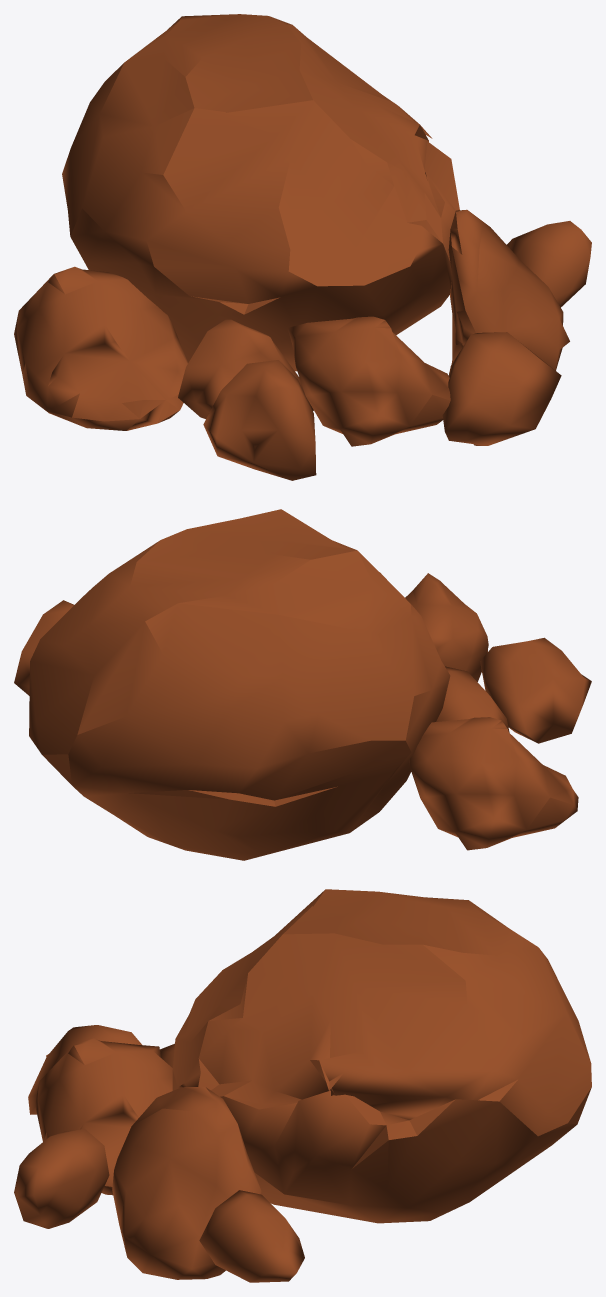
The model's file is ore-iron.glb.
3 views of the same model, one above another, from view 1: azimuth 30°, elevation 25°; view 2: azimuth 150°, elevation 25°; view 3: azimuth 270°, elevation 25° (orthographic). The views are drawn at different scales.
Visible parts, largest first — view 1: ore-iron-chunk; view 2: ore-iron-chunk; view 3: ore-iron-chunk.
Part boxes in pixels (x1=…): ore-iron-chunk: x1=14, y1=14, x2=591, y2=480; ore-iron-chunk: x1=14, y1=509, x2=591, y2=860; ore-iron-chunk: x1=14, y1=889, x2=591, y2=1282.
Size of the model in its own units: 1.27 by 0.6588 by 1.21.
